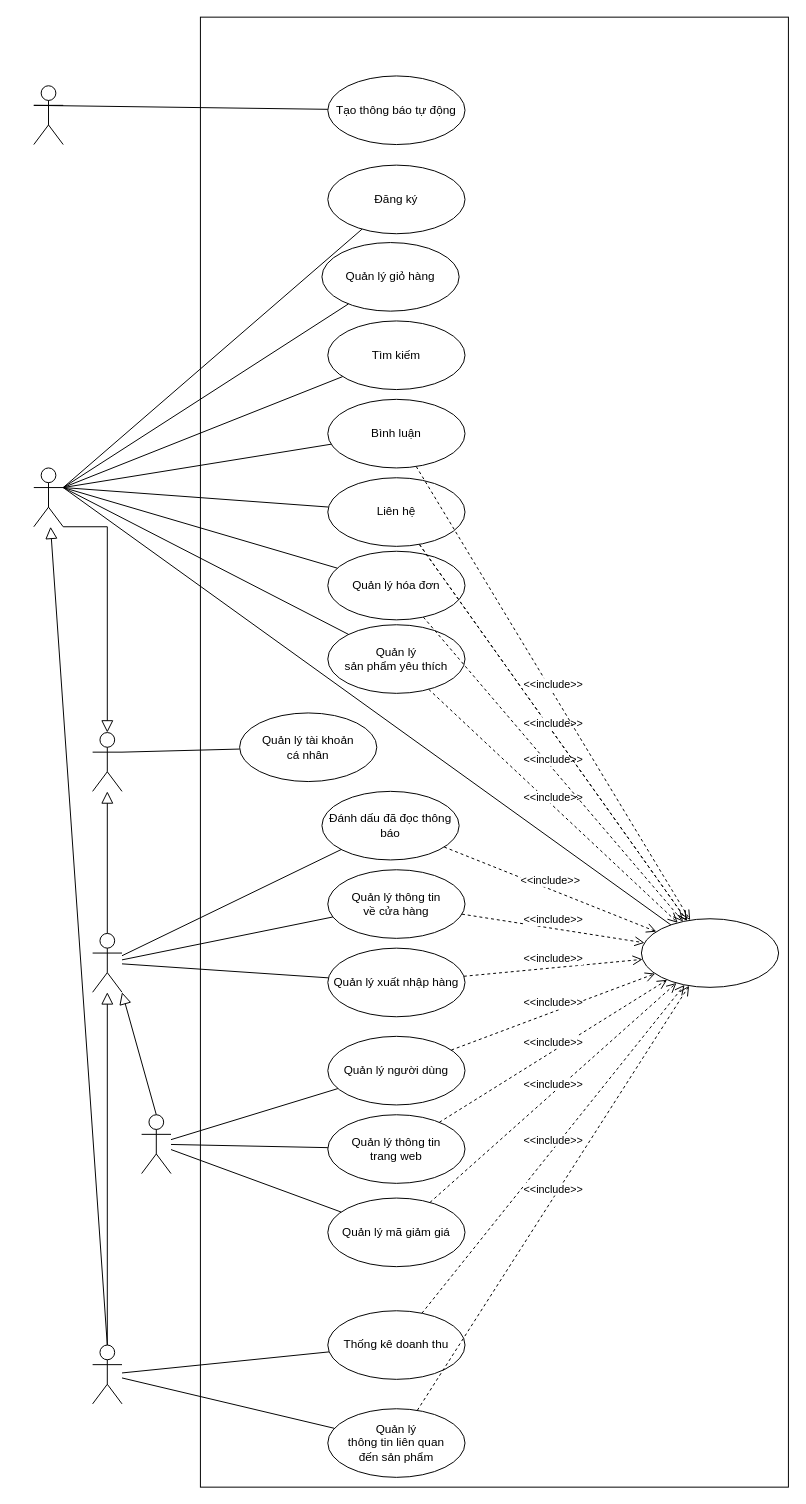
This 806x1504 diagram has some shape labels left out. Each missing label, with the centre of its shape:
Admin: [156,1144]
Asc: [107,962]
Chủ cửa hàng: [107,1374]
Khách hàng: [48,497]
System: [48,115]
User: [107,761]
Đăng nhập: [709,952]
